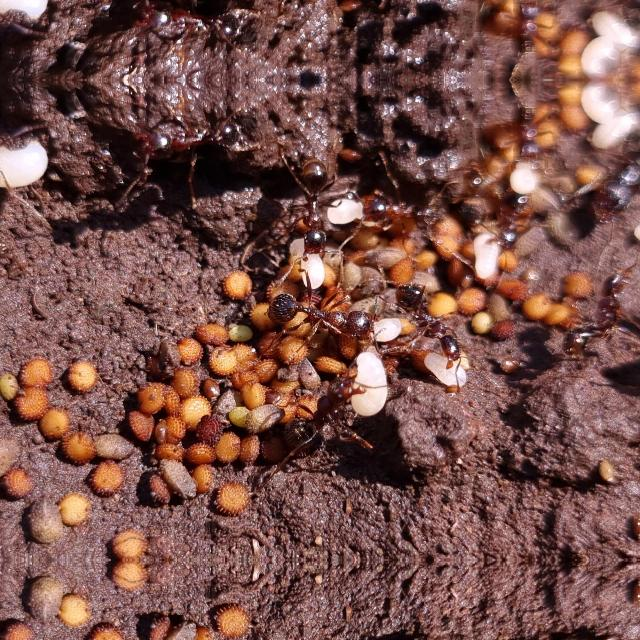Messor: (258, 284, 388, 348), (390, 264, 478, 356), (290, 148, 354, 268), (122, 104, 248, 164), (356, 185, 470, 245), (122, 0, 247, 53), (308, 372, 372, 460), (568, 264, 616, 366)
